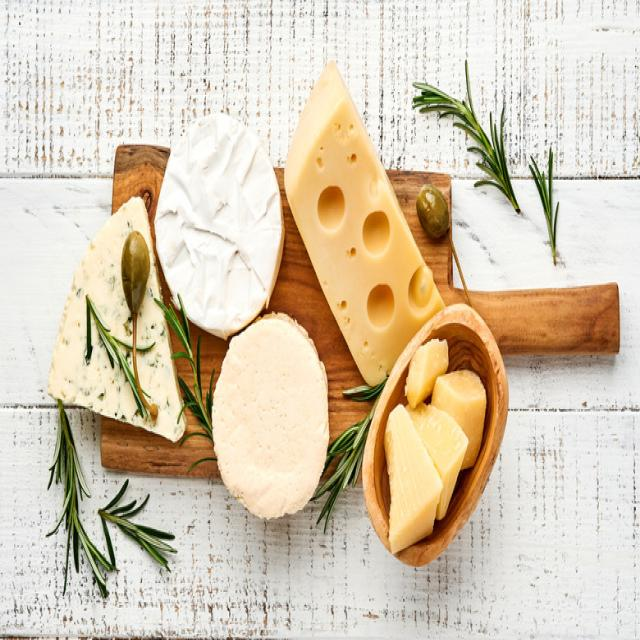Cheese: (276, 60, 442, 401), (155, 109, 284, 336), (216, 312, 326, 521), (382, 355, 489, 557)
Rosemary: (49, 396, 177, 599), (407, 60, 523, 221), (312, 355, 398, 531), (153, 289, 213, 484), (78, 292, 162, 421), (519, 136, 568, 273)
